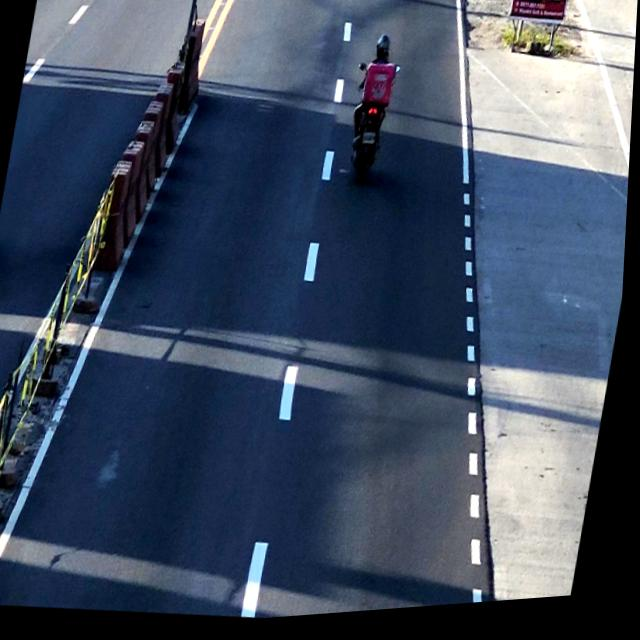License-Plate: (362, 135, 380, 152)
Motorcycle: (345, 38, 403, 192)
